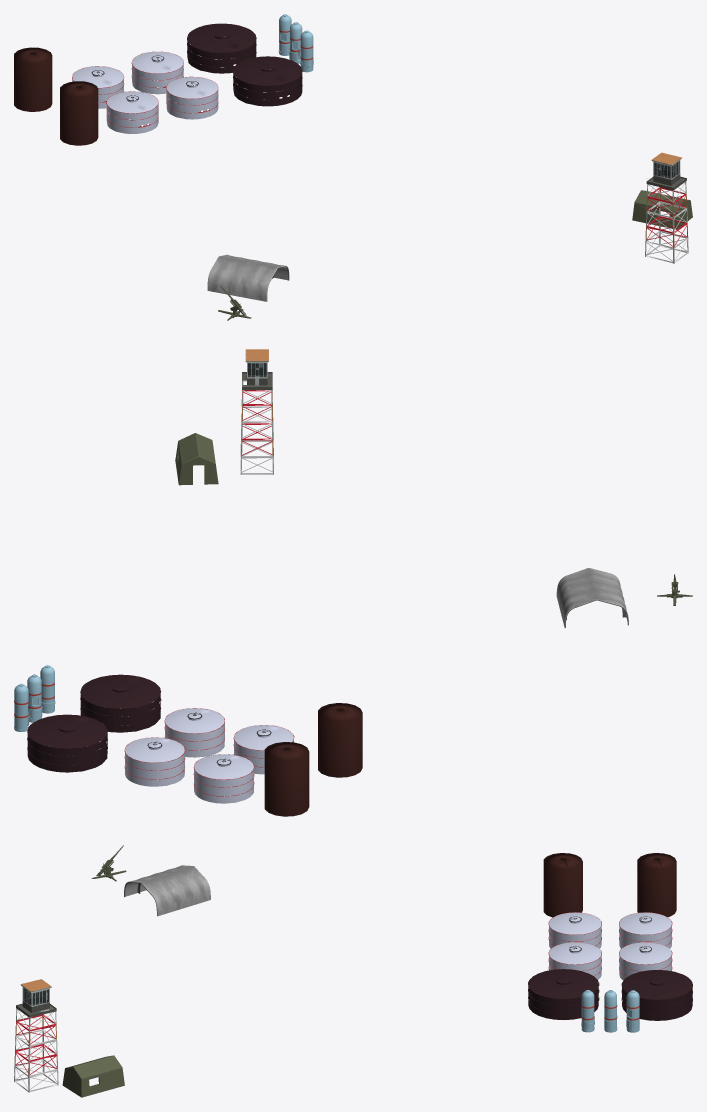
File: TankFarm.glb
The picture shows the model from 3 angles, top to bottom: view 1: azimuth 30°, elevation 25°; view 2: azimuth 150°, elevation 25°; view 3: azimuth 270°, elevation 25°; orthographic projection. The views are drawn at different scales.
Visible parts, largest first — view 1: defaultMaterial, defaultMaterial.263, clothBuilding001_Material #67_0, Box001_Main Tent_0; view 2: defaultMaterial, defaultMaterial.263, clothBuilding001_Material #67_0, Box001_Main Tent_0; view 3: defaultMaterial, defaultMaterial.263, clothBuilding001_Material #67_0, Box001_Main Tent_0.
Boxes of the visible parts, x1,y1,x2,y2 form: defaultMaterial: (14,14,313,145); defaultMaterial.263: (645,152,688,263); clothBuilding001_Material #67_0: (207,254,289,301); Box001_Main Tent_0: (632,190,692,229); defaultMaterial: (14,665,362,816); defaultMaterial.263: (240,349,273,474); clothBuilding001_Material #67_0: (556,568,628,627); Box001_Main Tent_0: (175,433,218,485); defaultMaterial: (528,853,692,1032); defaultMaterial.263: (14,979,58,1092); clothBuilding001_Material #67_0: (124,865,210,916); Box001_Main Tent_0: (62,1055,124,1097).
Bounding box in the file's own units: 206 × 41.82 × 261.
27 materials, 5 textured.
